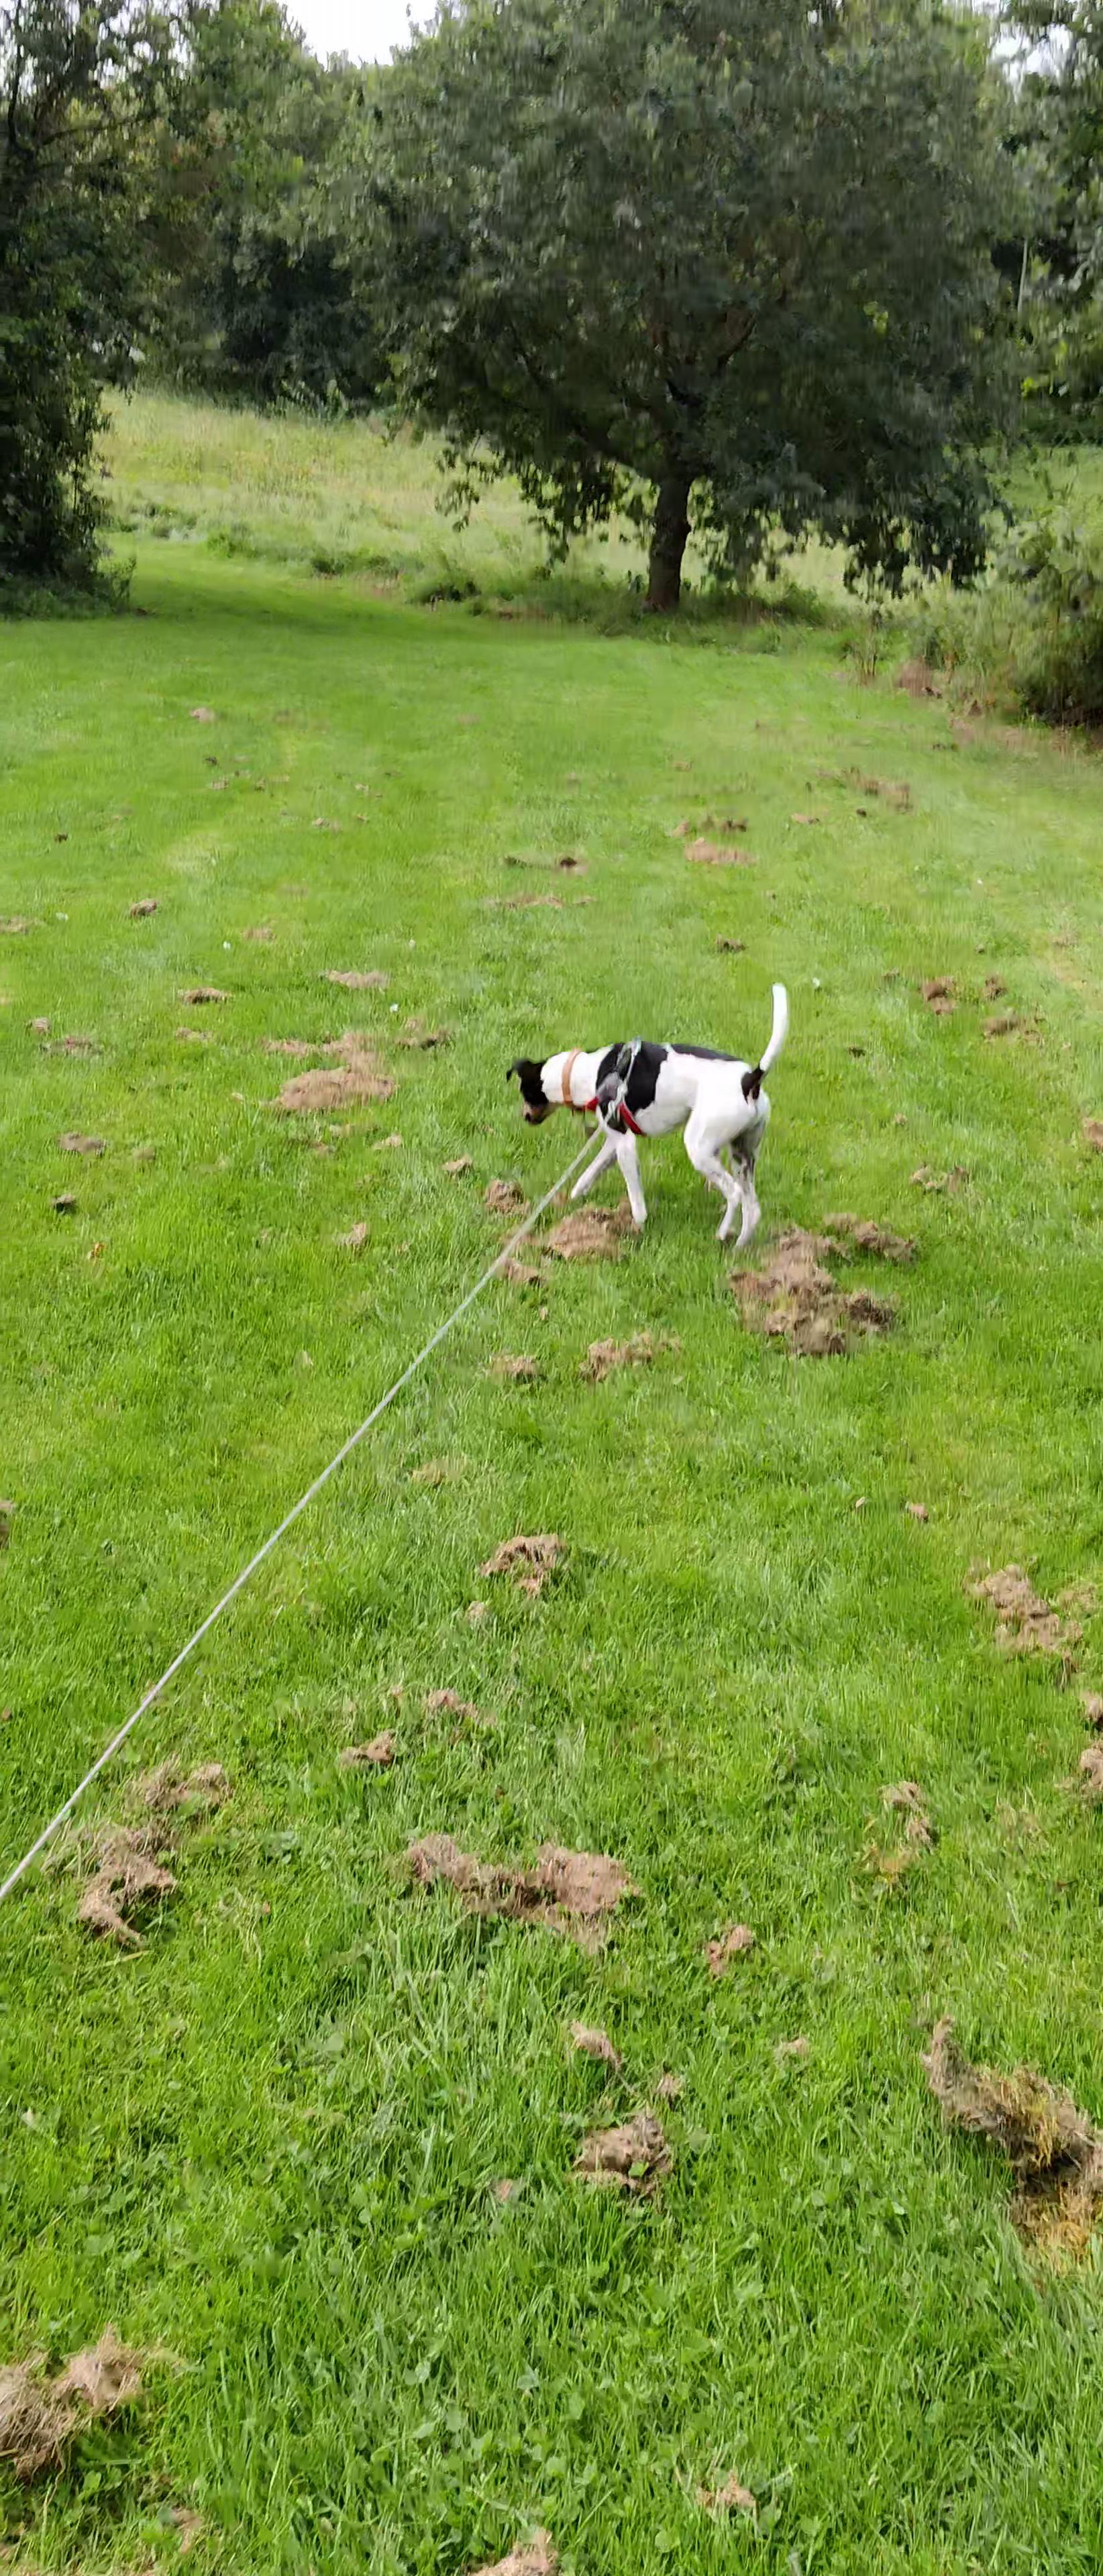Dog: (503, 977, 789, 1252)
